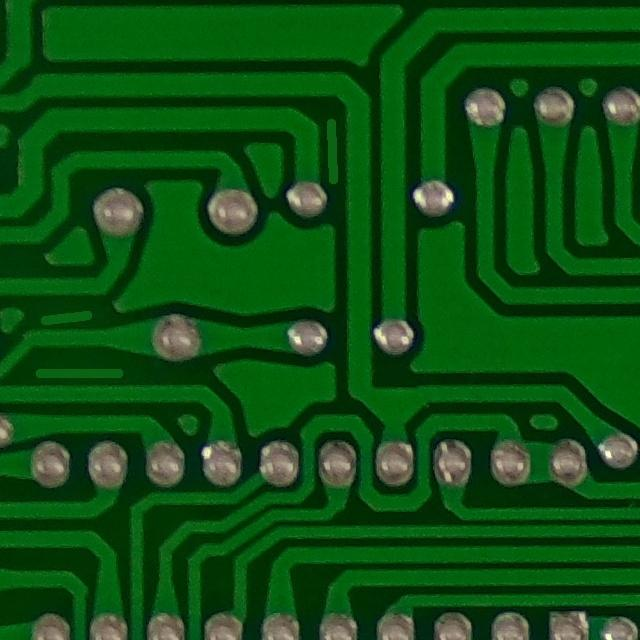spurious_copper: (28, 357, 130, 392), (313, 106, 355, 191), (31, 301, 101, 336)
